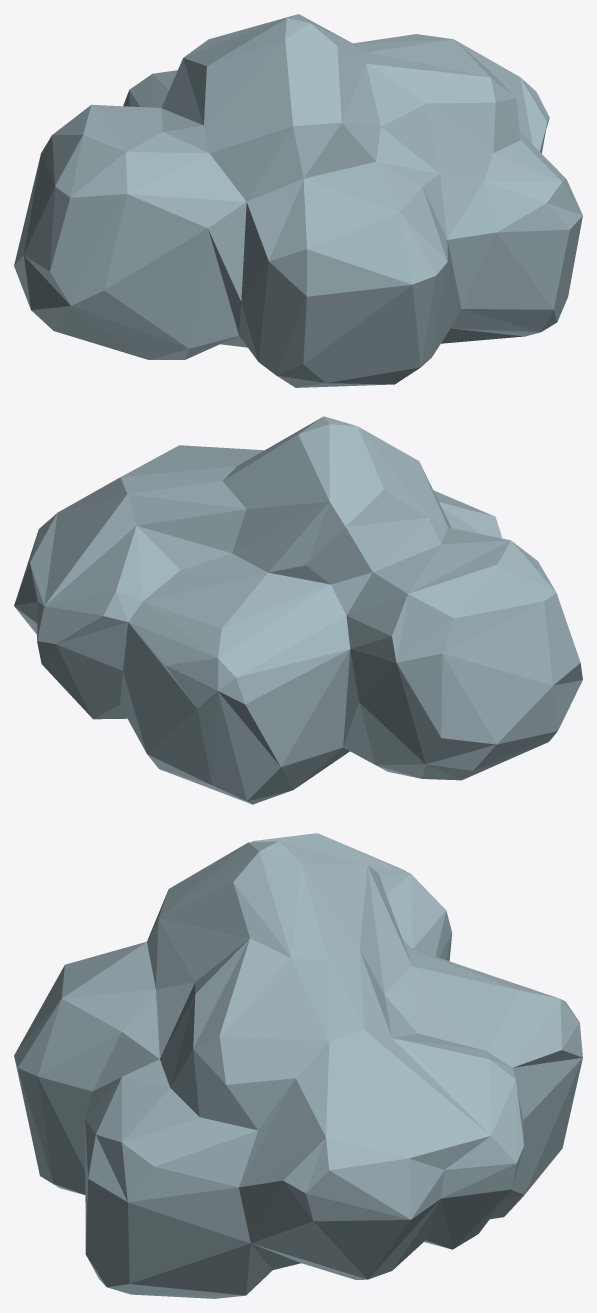
The model's file is smallCloud.fbx.
The picture shows the model from 3 angles, top to bottom: view 1: azimuth 30°, elevation 25°; view 2: azimuth 150°, elevation 25°; view 3: azimuth 270°, elevation 25°; orthographic projection. The views are drawn at different scales.
Parts seen in each view (by area): view 1: cloud2; view 2: cloud2; view 3: cloud2.
Boxes of the visible parts, x1,y1,x2,y2 form: cloud2: (14, 14, 582, 387); cloud2: (14, 416, 582, 804); cloud2: (14, 833, 582, 1298).
Size of the model in its own units: 2.09 by 1.21 by 1.74.
